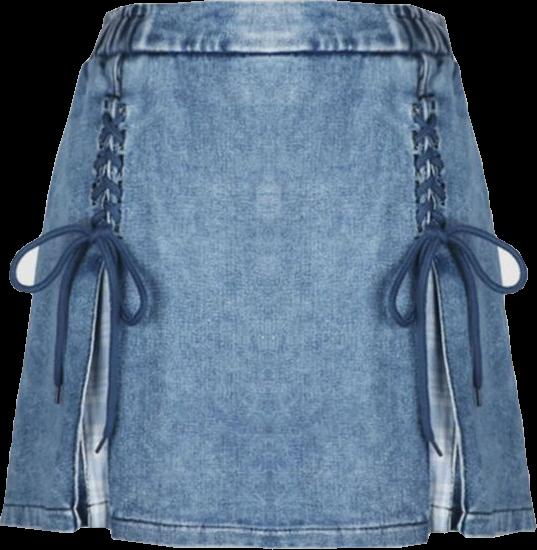Hemline: (0, 257, 536, 549)
Waistline: (101, 0, 445, 22), (87, 50, 453, 61)
